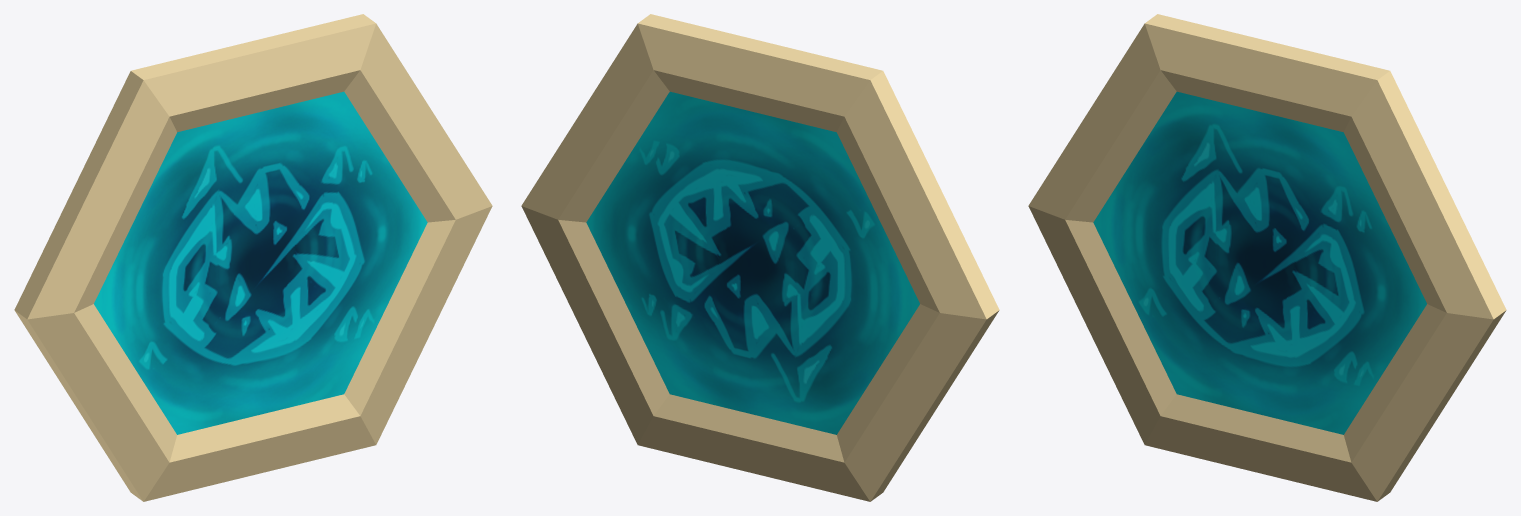
The model's file is IceMedallion.fbx.
The picture shows the model from 3 angles, left to right: view 1: azimuth 30°, elevation 25°; view 2: azimuth 150°, elevation 25°; view 3: azimuth 330°, elevation 25°; orthographic projection.
Visible parts, largest first — view 1: pCylinder1; view 2: pCylinder1; view 3: pCylinder1.
Boxes of the visible parts, box(x1,y1,x2,y2) form: pCylinder1: box(14, 14, 492, 501); pCylinder1: box(521, 14, 999, 501); pCylinder1: box(1028, 14, 1506, 501).
Bounding box in the file's own units: 2.79 × 2.41 × 0.2383.
